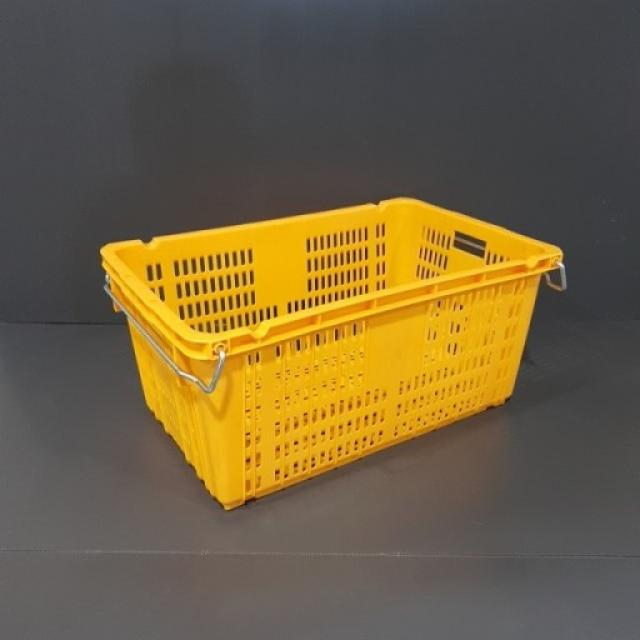basket: (88, 92, 606, 524)
